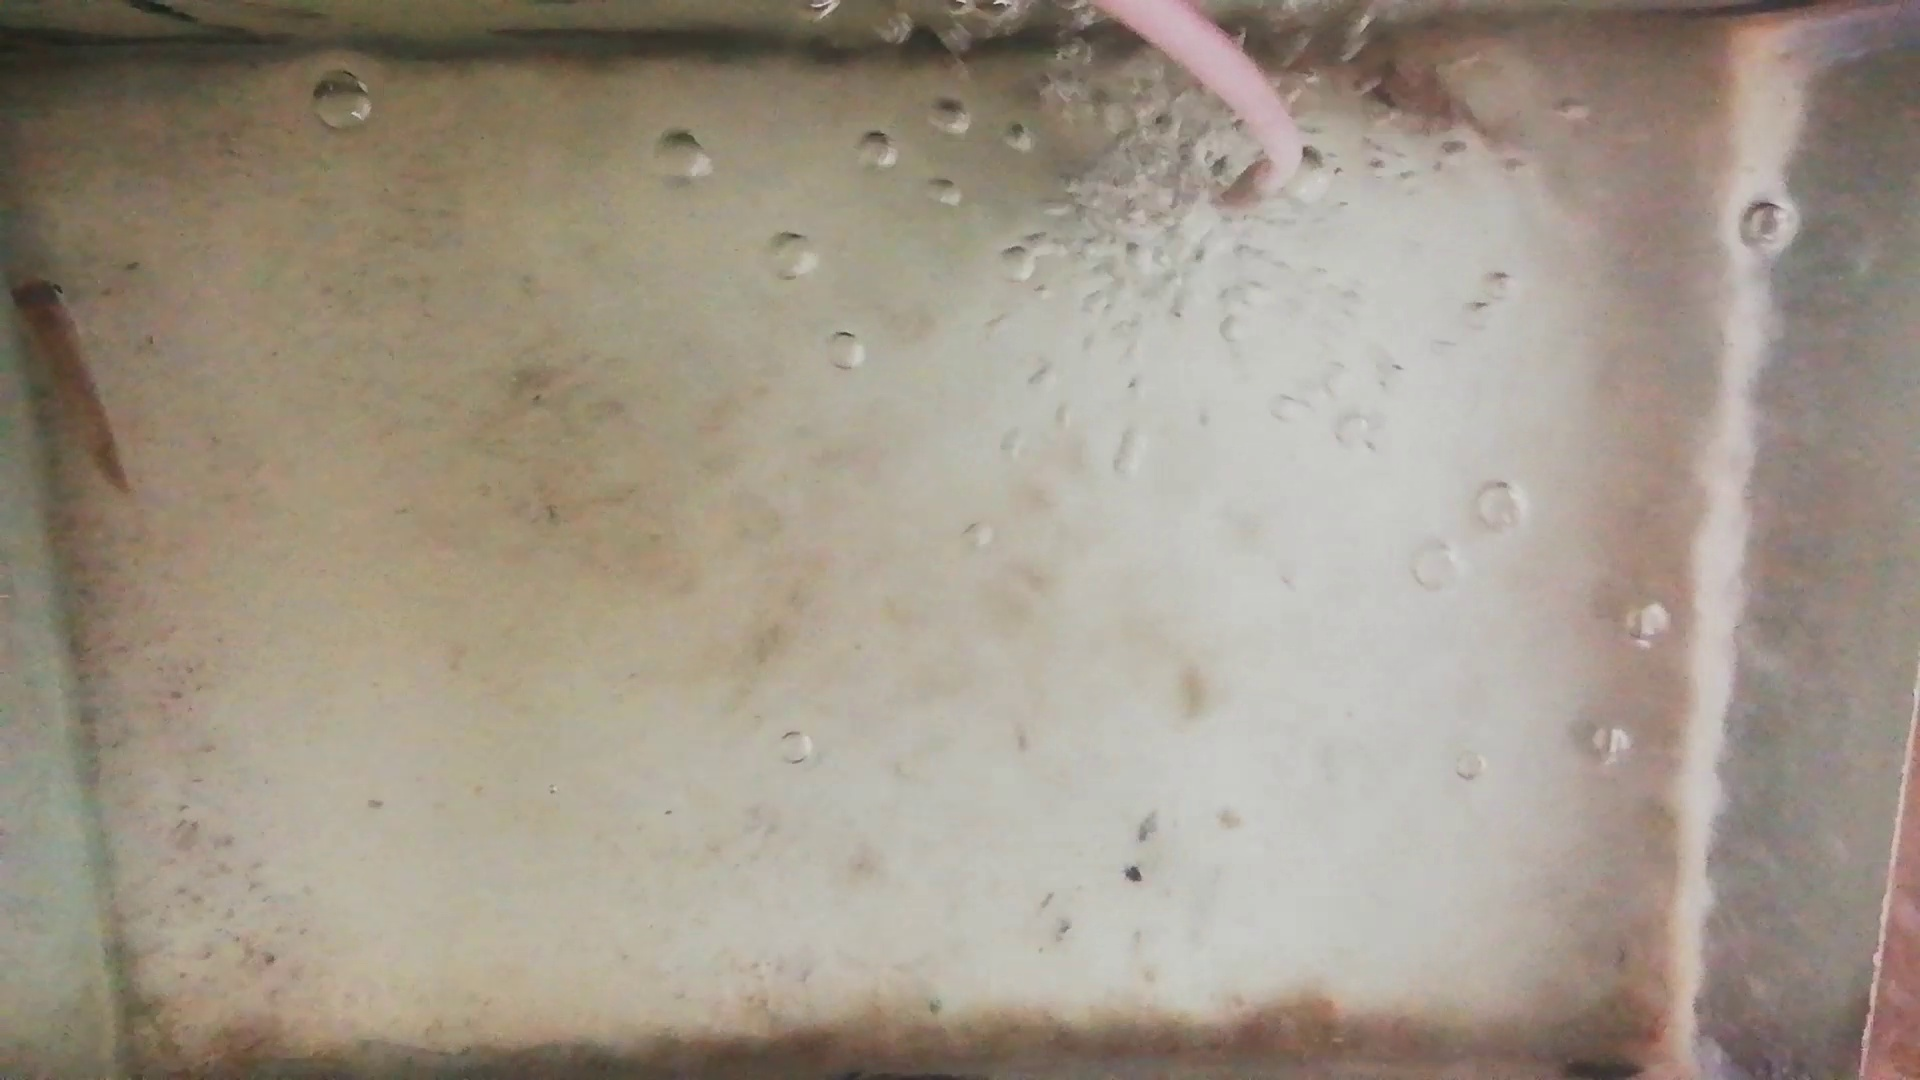fish: (11, 276, 127, 487), (1358, 76, 1499, 140)
